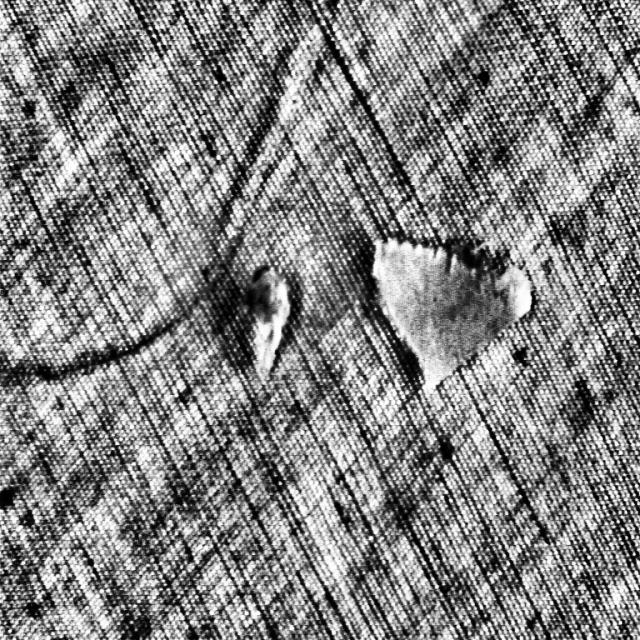Stitch: (0, 242, 238, 401), (368, 230, 538, 389), (242, 258, 299, 380)
